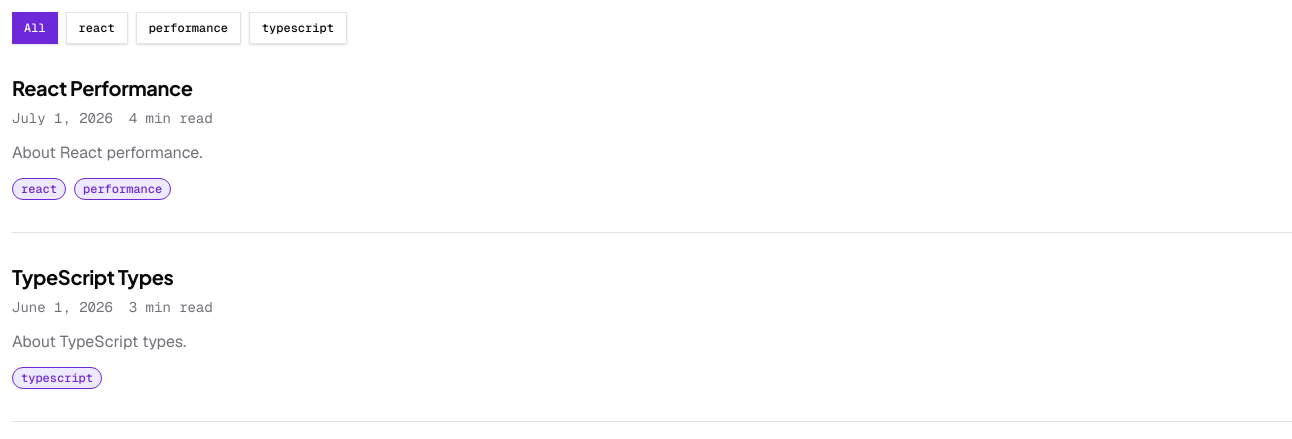
Test: TagFilter › shows only posts matching the selected tag when a tag is active
The image size is (1292, 439).
What coordinates should you click on to do the following:
click the button "react"
I would click on:
 (97, 28)
Its box is [66,12,128,44].
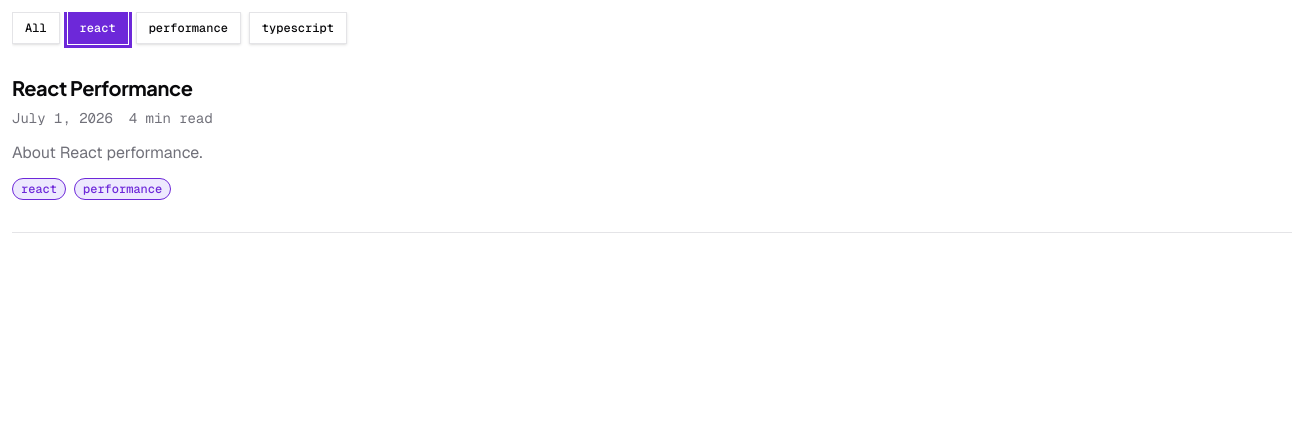
Check: the heading "React Performance" is shown, box [12,75,193,100]
Check: the link "TypeScript Types" is gone
